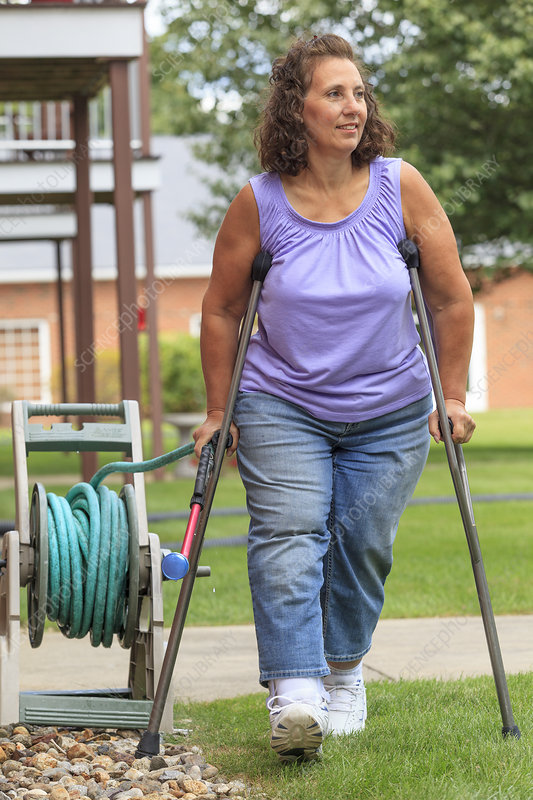crutches: (136, 32, 521, 756)
